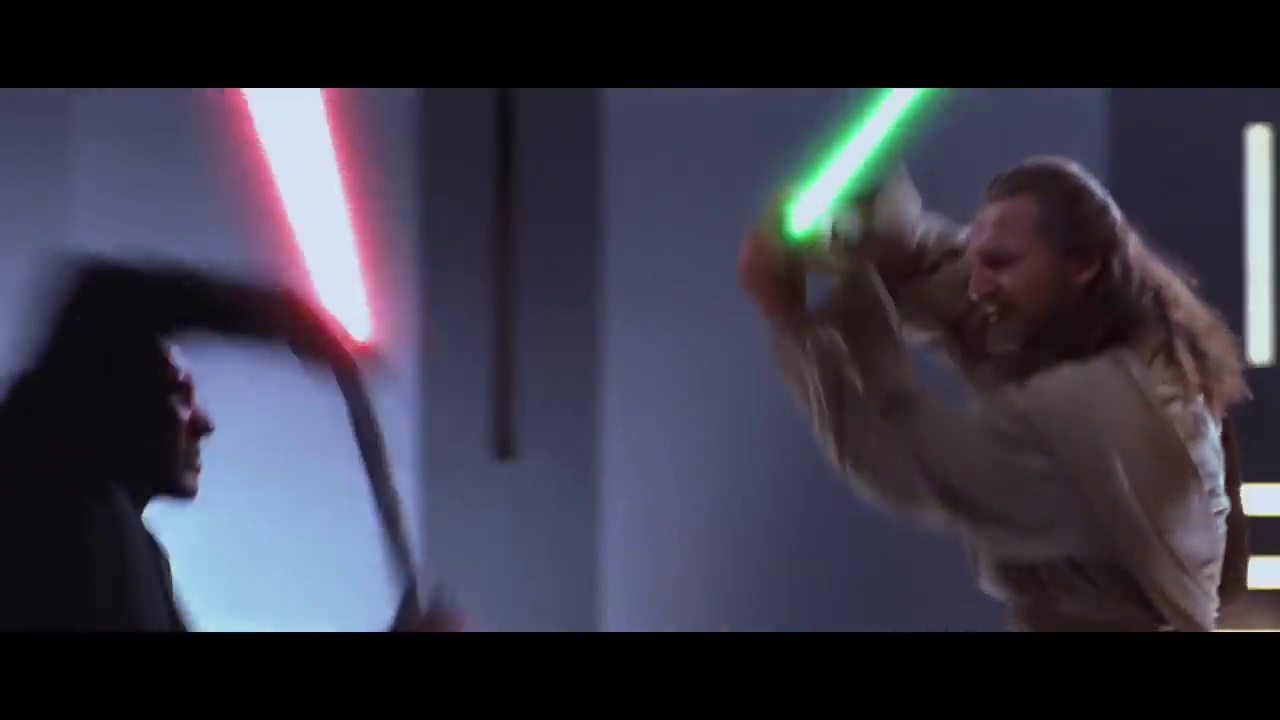lightsaber: (235, 85, 391, 353), (762, 79, 948, 248)
